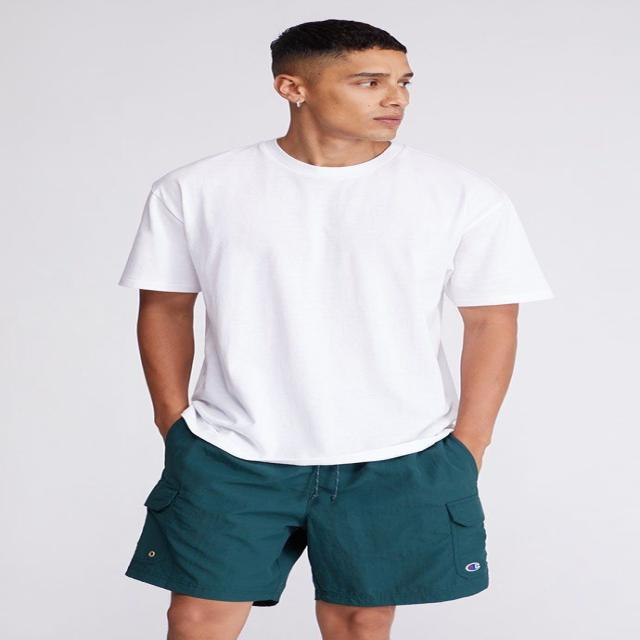Upper-Body: (119, 138, 552, 465)
